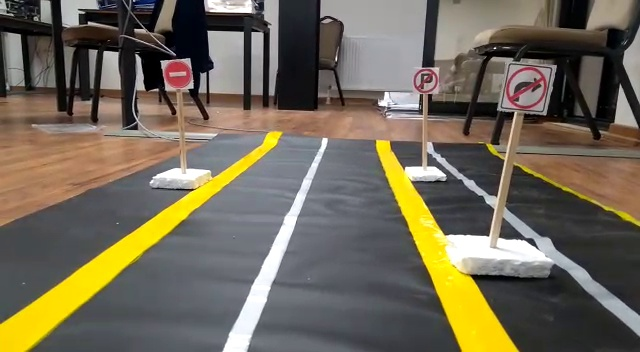girisi_olmayan_yol: (161, 59, 193, 90)
park_yapilmaz: (412, 64, 437, 91)
saga_donulmez: (503, 58, 552, 112)
